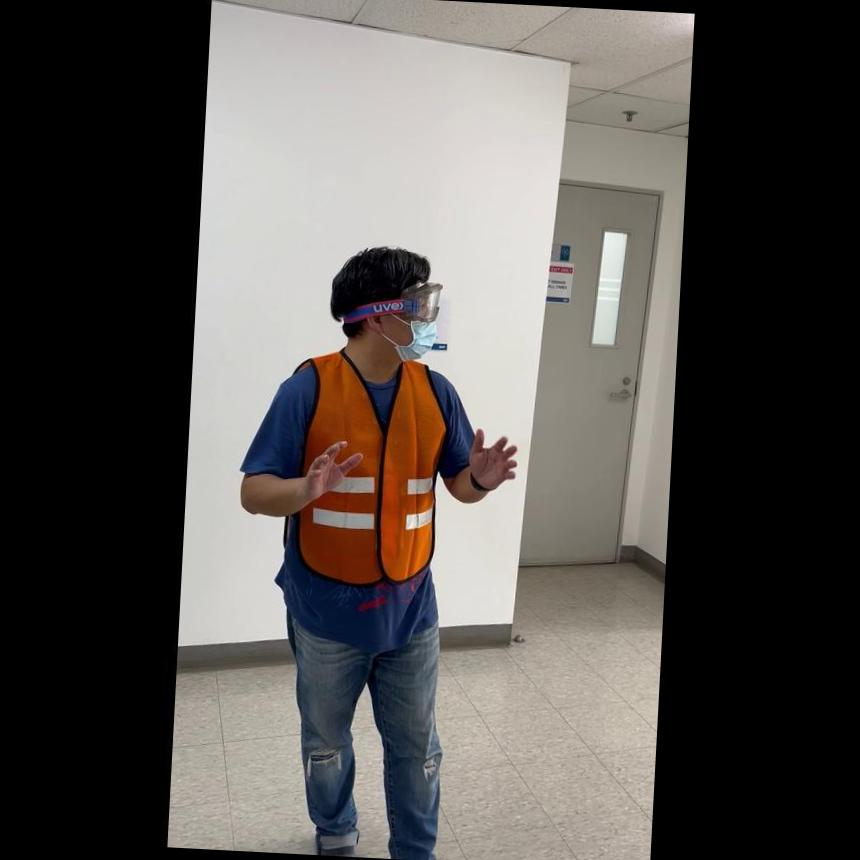No-gloves: (289, 428, 366, 512), (465, 420, 518, 491)
